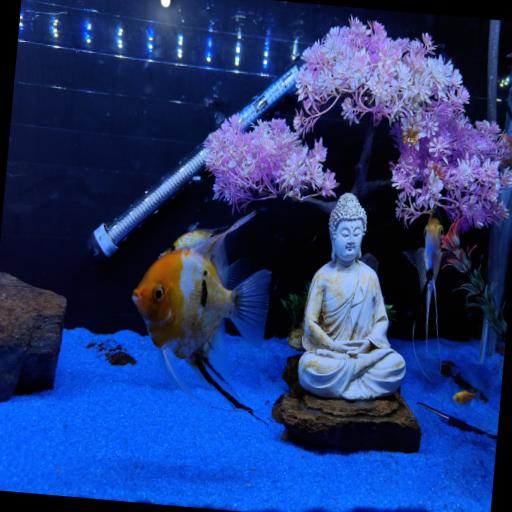Fish: (133, 213, 271, 415), (405, 207, 447, 344), (160, 227, 227, 257), (453, 391, 476, 405)
